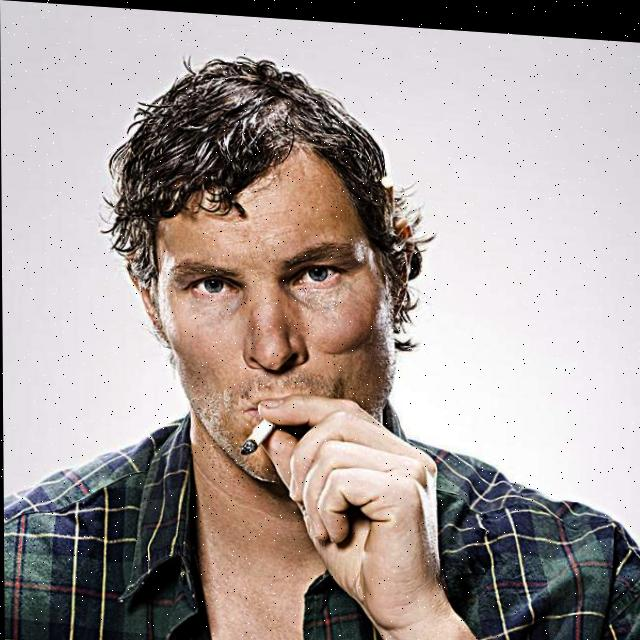cigarette: (241, 412, 274, 452)
